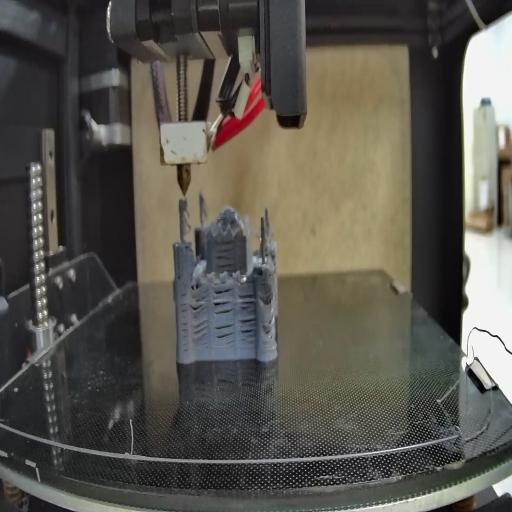cracks: (238, 292, 256, 338), (212, 283, 234, 316), (215, 239, 235, 273), (214, 320, 236, 346), (180, 289, 188, 355), (190, 288, 208, 312), (193, 320, 210, 344), (260, 283, 275, 307), (263, 312, 274, 337)
